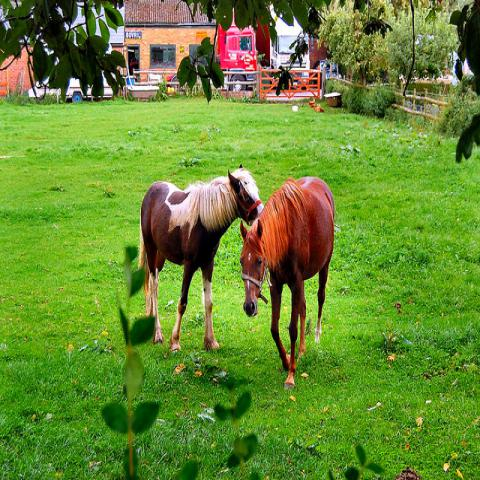truck: (218, 7, 258, 82)
